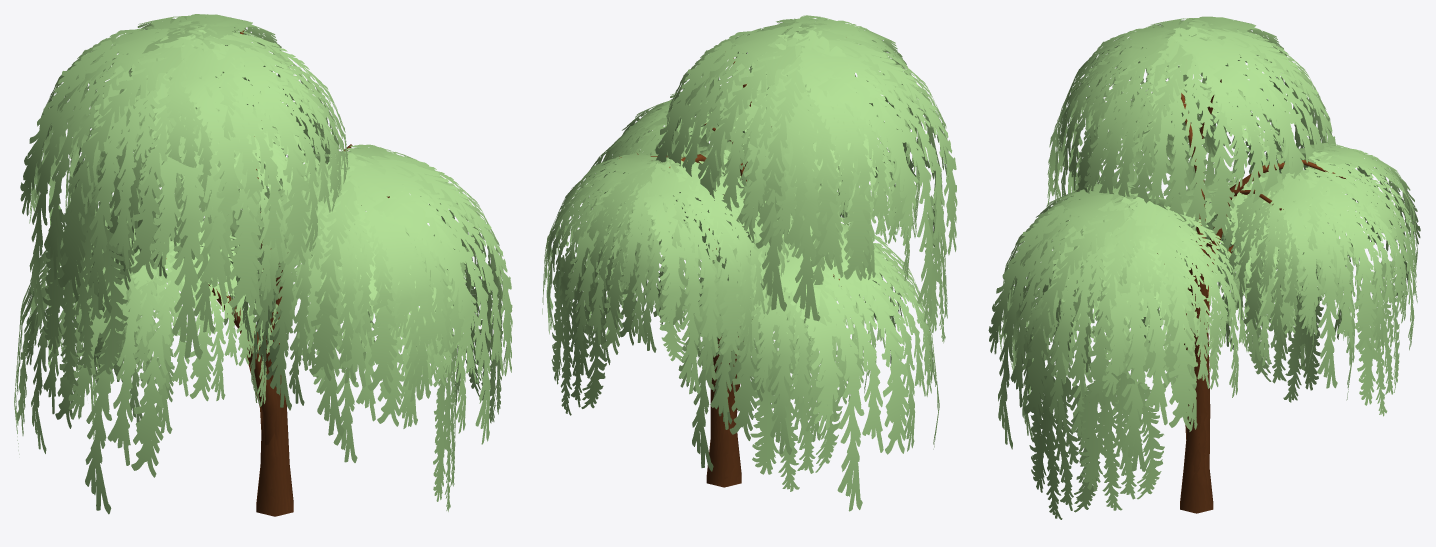
Rendered from STWillow2.glb.
3 views of the same model, side by side, from view 1: azimuth 30°, elevation 25°; view 2: azimuth 150°, elevation 25°; view 3: azimuth 270°, elevation 25° (orthographic). The views are drawn at different scales.
Visible parts, largest first — view 1: WillowTree2; view 2: WillowTree2; view 3: WillowTree2.
Boxes of the visible parts, <box> form: WillowTree2: <box>14,14,512,516</box>; WillowTree2: <box>542,15,957,511</box>; WillowTree2: <box>988,16,1420,519</box>.
Bounding box in the file's own units: 14.01 × 16.33 × 14.58.
Materials: 2 (2 with a texture image).
